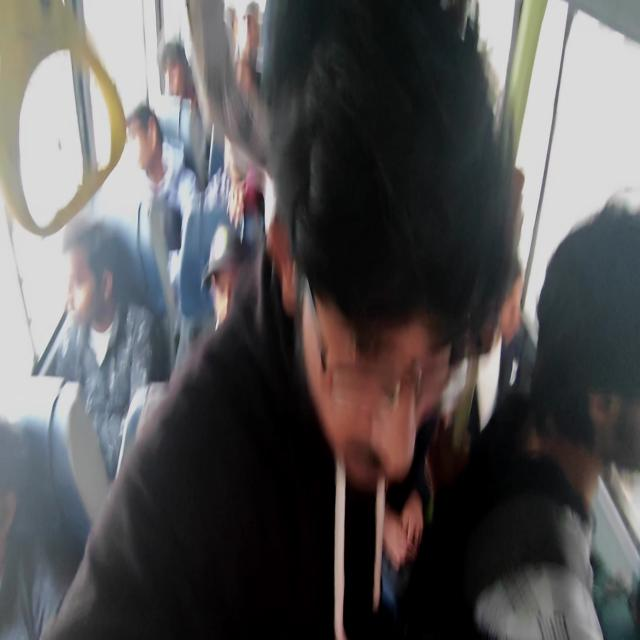person: (299, 53, 440, 425), (547, 293, 640, 515), (0, 404, 44, 640), (216, 141, 296, 245), (175, 228, 247, 332), (74, 190, 121, 321), (136, 124, 181, 198), (240, 10, 277, 87), (498, 275, 518, 369), (169, 35, 192, 101)
